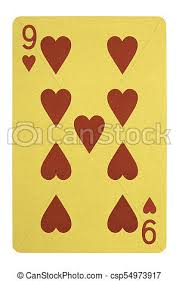nine of hearts: (13, 14, 165, 253)
